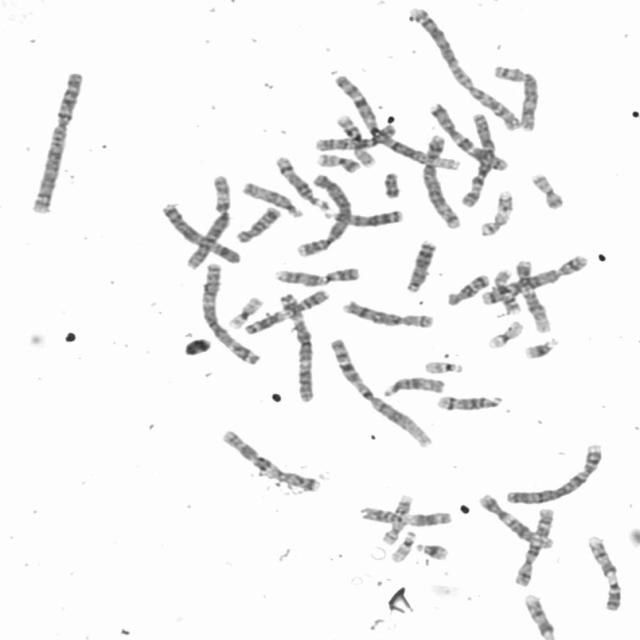A1: (330, 70, 463, 173), (325, 334, 436, 450)
A2: (403, 2, 524, 131), (27, 67, 87, 215)
A3: (198, 259, 264, 367), (278, 291, 318, 403)
B4: (501, 442, 605, 506), (293, 171, 354, 260)
B5: (478, 251, 590, 308), (418, 132, 464, 230)
C10: (510, 503, 556, 588), (310, 121, 399, 153)
C11: (240, 285, 333, 337), (357, 504, 454, 528)
C12: (476, 492, 556, 550), (513, 257, 553, 334)
C6: (182, 172, 234, 271), (458, 110, 497, 210)
C7: (217, 426, 323, 493), (424, 99, 510, 173)
C8: (490, 62, 542, 134), (338, 297, 437, 329)
C9: (584, 532, 624, 613), (270, 264, 362, 288)
D13: (402, 237, 439, 294), (321, 206, 407, 229)
D14: (272, 152, 330, 211), (432, 391, 505, 412)
D15: (238, 178, 305, 219), (378, 372, 447, 398)
E16: (332, 111, 377, 169), (490, 268, 523, 316)
E17: (376, 492, 414, 546), (478, 188, 514, 237)
E18: (232, 204, 282, 244), (443, 270, 492, 306)
F19: (224, 292, 266, 330), (484, 317, 526, 350)
F20: (526, 169, 567, 211), (312, 149, 362, 175)
G21: (520, 334, 562, 360), (412, 540, 450, 561)
G22: (387, 528, 417, 564), (420, 357, 466, 375)
X: (156, 201, 244, 265)
Y: (380, 170, 402, 200)
